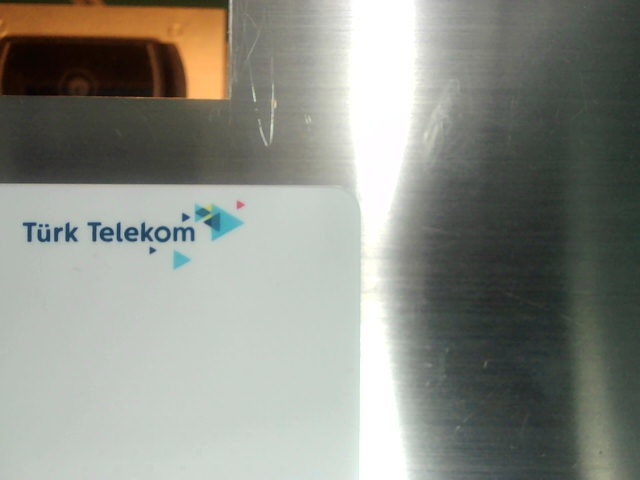AQ_TURKTelekom: (19, 186, 260, 272)
